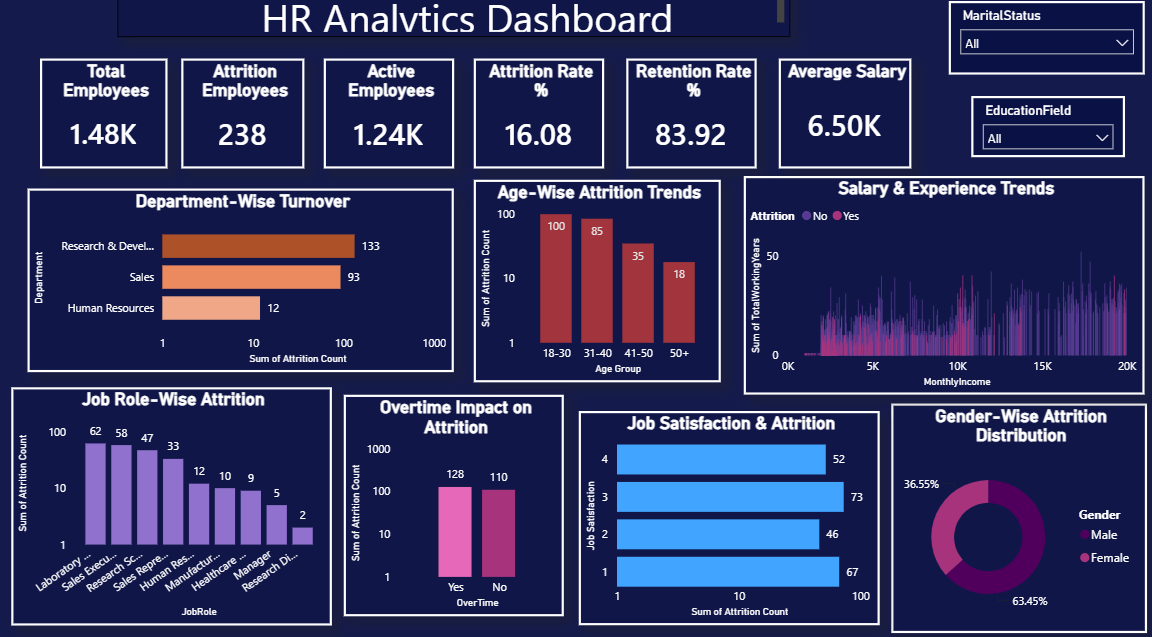

The dashboard page shown, as its layout file describes it:
{"tool":"powerbi","page":{"name":"Page 1","canvas":[1280,720],"ordinal":0},"visuals":[{"type":"cardVisual","title":"Total Employees","fields":{"Data":["HR_Analytics.Total Employees"]},"box":[49.4,79.6,140.3,121],"z":0},{"type":"cardVisual","title":"Attrition Employees","fields":{"Data":["HR_Analytics.Attrition Employees"]},"box":[204.5,79.6,135.5,121],"z":1000},{"type":"cardVisual","title":"Active Employees","fields":{"Data":["HR_Analytics.Active Employees"]},"box":[360.9,79.6,143.5,121],"z":2000},{"type":"cardVisual","title":"Attrition Rate %","fields":{"Data":["HR_Analytics.Attrition Rate %"]},"box":[525.6,79.6,143.5,121],"z":3000},{"type":"cardVisual","title":"Retention Rate %","fields":{"Data":["HR_Analytics.Retention Rate %"]},"box":[693,79.6,143.5,121],"z":4000},{"type":"cardVisual","title":"Average Salary                     ","fields":{"Data":["HR_Analytics.Average Salary"]},"box":[860.4,79.6,145.5,120.8],"z":5000},{"type":"clusteredBarChart","title":"Department-Wise Turnover","fields":{"Category":["HR_Analytics.Department"],"Y":["Sum(HR_Analytics.Attrition Count)"]},"box":[35.7,222.3,467.9,201.7],"z":6000},{"type":"donutChart","title":"Gender-Wise Attrition Distribution","fields":{"Category":["HR_Analytics.Gender"],"Y":["Sum(HR_Analytics.Attrition Count)"]},"box":[983.9,458.1,280.6,251.6],"z":7000},{"type":"clusteredColumnChart","title":"Job Role-Wise Attrition","fields":{"Category":["HR_Analytics.JobRole"],"Y":["Sum(HR_Analytics.Attrition Count)"]},"box":[17.7,440.3,351.6,261.3],"z":8000},{"type":"clusteredColumnChart","title":"Age-Wise Attrition Trends","fields":{"Category":["HR_Analytics.Age Group"],"Y":["Sum(HR_Analytics.Attrition Count)"]},"box":[525.6,212.7,271,222.6],"z":9000},{"type":"clusteredColumnChart","title":"Overtime Impact on Attrition","fields":{"Category":["HR_Analytics.OverTime"],"Y":["Sum(HR_Analytics.Attrition Count)"]},"box":[382.3,448.4,241.9,243.5],"z":10000},{"type":"clusteredBarChart","title":"Job Satisfaction & Attrition","fields":{"Category":["HR_Analytics.JobSatisfaction"],"Y":["Sum(HR_Analytics.Attrition Count)"]},"box":[640.3,466.1,330.6,235.5],"z":15000},{"type":"clusteredColumnChart","title":"Salary & Experience Trends","fields":{"Category":["HR_Analytics.MonthlyIncome"],"Series":["HR_Analytics.Attrition"],"Y":["Sum(HR_Analytics.TotalWorkingYears)"]},"box":[822,208.6,440.3,240.3],"z":16000},{"type":"slicer","fields":{"Values":["HR_Analytics.MaritalStatus"]},"box":[1047,16.5,215.4,81],"z":17000},{"type":"slicer","fields":{"Values":["HR_Analytics.EducationField"]},"box":[1071.7,120.8,168.8,67.2],"z":18000},{"type":"textbox","box":[134.5,0,738.3,56.3],"z":20000}]}

Visuals, with their boxes in screenshot pixels (x1, y1, x2, y2), scaled from the page's 1280x720 canvas onto the 1152x637 screenshot:
"Total Employees" cardVisual: box(44, 70, 171, 177)
"Attrition Employees" cardVisual: box(184, 70, 306, 177)
"Active Employees" cardVisual: box(325, 70, 454, 177)
"Attrition Rate %" cardVisual: box(473, 70, 602, 177)
"Retention Rate %" cardVisual: box(624, 70, 753, 177)
"Average Salary                     " cardVisual: box(774, 70, 905, 177)
"Department-Wise Turnover" clusteredBarChart: box(32, 197, 453, 375)
"Gender-Wise Attrition Distribution" donutChart: box(886, 405, 1138, 628)
"Job Role-Wise Attrition" clusteredColumnChart: box(16, 390, 332, 621)
"Age-Wise Attrition Trends" clusteredColumnChart: box(473, 188, 717, 385)
"Overtime Impact on Attrition" clusteredColumnChart: box(344, 397, 562, 612)
"Job Satisfaction & Attrition" clusteredBarChart: box(576, 412, 874, 621)
"Salary & Experience Trends" clusteredColumnChart: box(740, 185, 1136, 397)
slicer - HR_Analytics.MaritalStatus: box(942, 15, 1136, 86)
slicer - HR_Analytics.EducationField: box(965, 107, 1116, 166)
textbox: box(121, 0, 786, 50)
